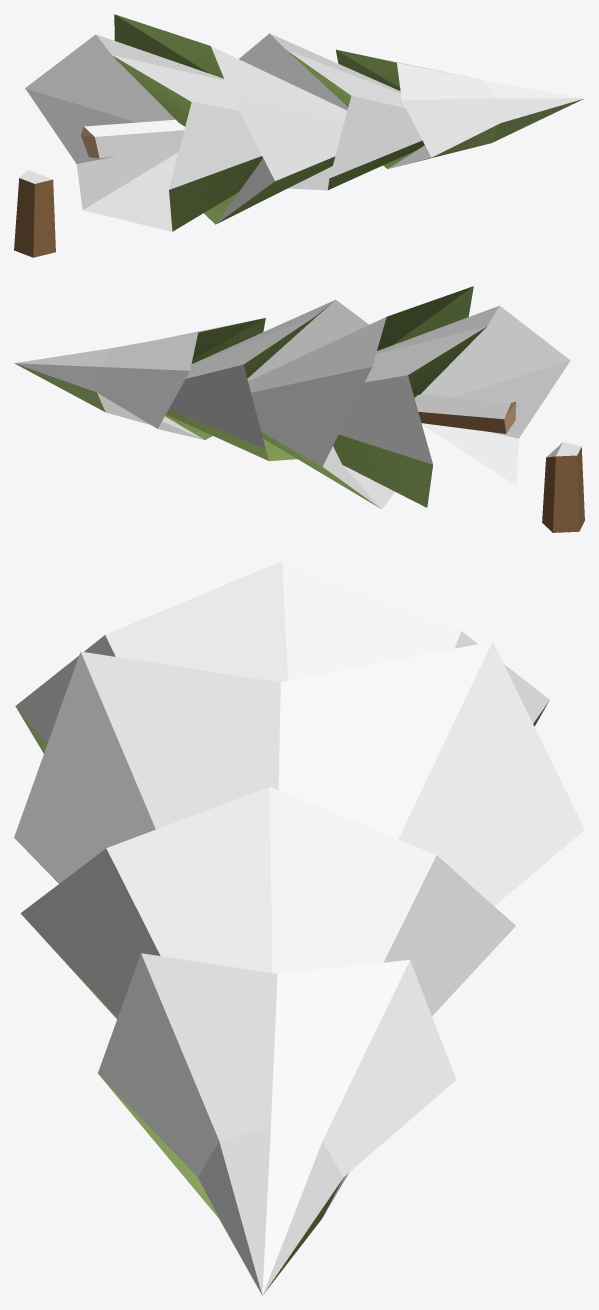
File: Pine_Tree_crk_m_Snow_01_LOD.fbx
3 renders of one model, top to bottom at view 1: azimuth 30°, elevation 25°; view 2: azimuth 150°, elevation 25°; view 3: azimuth 270°, elevation 25°, orthographic. The views are drawn at different scales.
Visible parts, largest first — view 1: Pine_Tree_crk_m_Snow_01_LOD0; view 2: Pine_Tree_crk_m_Snow_01_LOD0; view 3: Pine_Tree_crk_m_Snow_01_LOD0.
Part boxes in pixels (x1,y1,x2,y2): Pine_Tree_crk_m_Snow_01_LOD0: [14, 14, 584, 257]; Pine_Tree_crk_m_Snow_01_LOD0: [14, 286, 584, 532]; Pine_Tree_crk_m_Snow_01_LOD0: [14, 561, 584, 1295].
Size of what is drawn, in the model's own units: 951 by 284 by 436.
